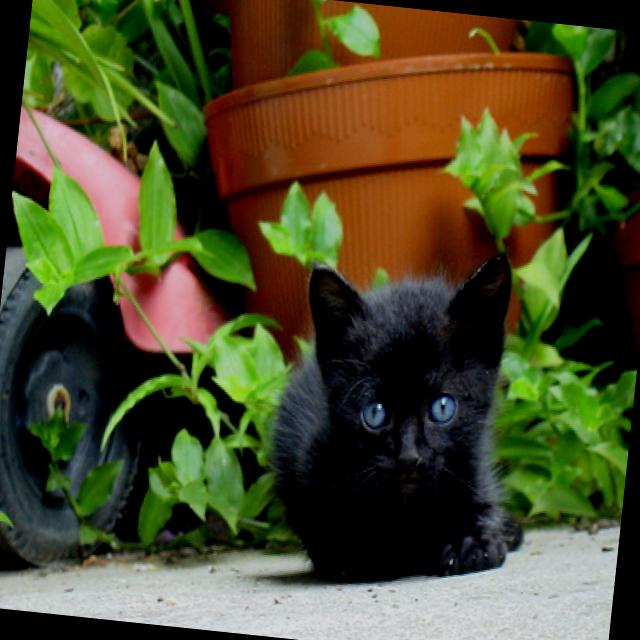Vehicle: (0, 88, 264, 591)
